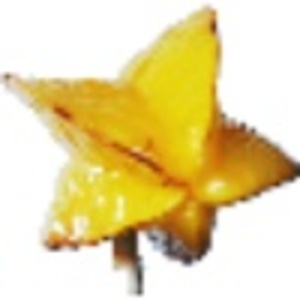carambola: (1, 4, 300, 292)
